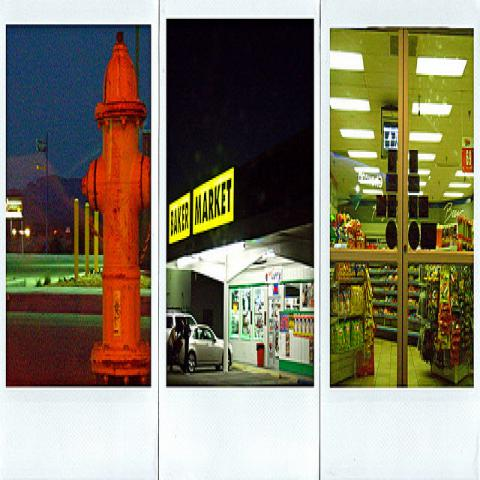car: (176, 323, 234, 373), (166, 307, 199, 367)
